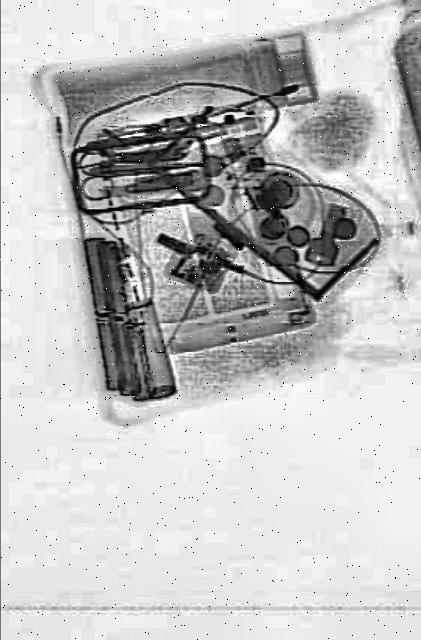Scissors: (80, 142, 190, 206)
